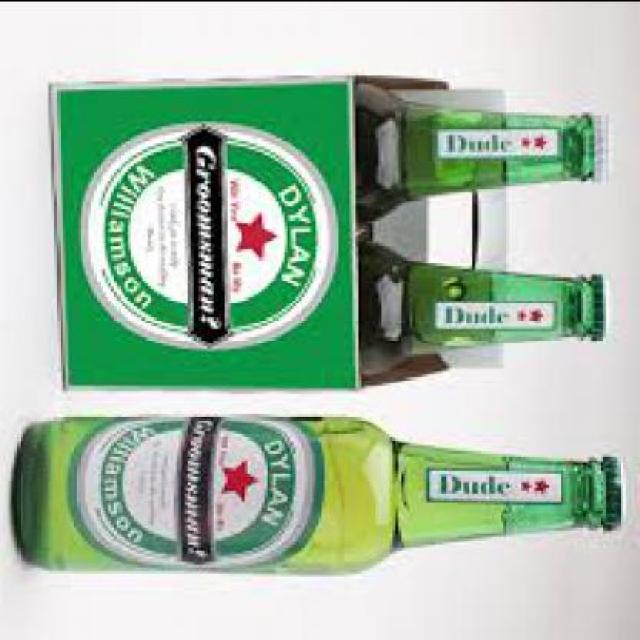CARDBOARD: (51, 71, 362, 387)
GLASS: (18, 412, 608, 570), (358, 236, 600, 378), (358, 80, 598, 218)
METAL: (608, 449, 632, 523), (598, 268, 612, 335), (600, 112, 614, 176)
